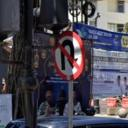NoVirarU: (53, 31, 85, 80)
